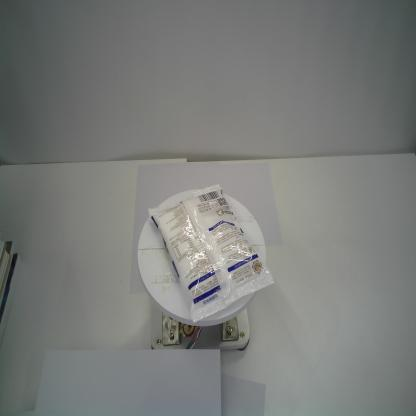Seasoner: (147, 184, 274, 324)
